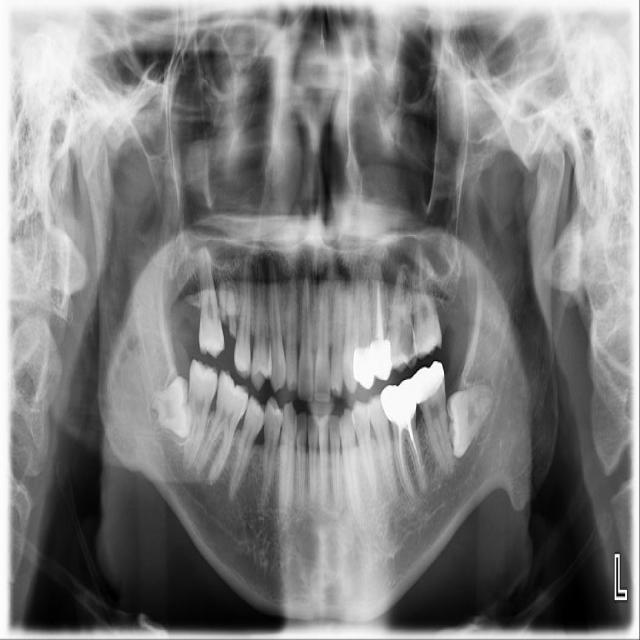Caries: (397, 311, 416, 360)
Crown: (380, 375, 417, 431), (411, 361, 445, 409), (370, 339, 394, 382), (353, 347, 375, 391)
Root Canal Treatment: (407, 425, 423, 483), (399, 433, 412, 492), (378, 283, 383, 339)
Root Piece: (227, 287, 236, 338), (220, 281, 228, 325)
impacted tooth: (448, 386, 496, 457)
